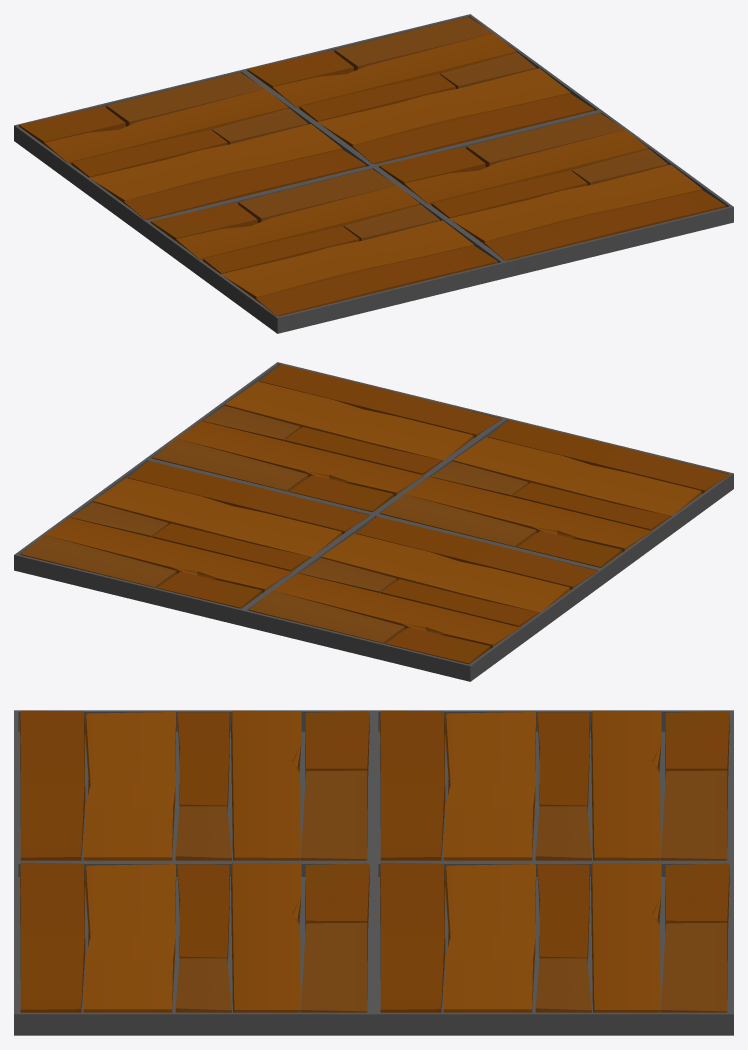
Rendered from Wood Planks Floor Modules 4x4M.glb.
The picture shows the model from 3 angles, top to bottom: view 1: azimuth 30°, elevation 25°; view 2: azimuth 150°, elevation 25°; view 3: azimuth 270°, elevation 25°; orthographic projection. The views are drawn at different scales.
Visible parts, largest first — view 1: FloorPlates_4x4; view 2: FloorPlates_4x4; view 3: FloorPlates_4x4.
Boxes of the visible parts, box(x1,y1,x2,y2) form: FloorPlates_4x4: box(14, 14, 733, 333); FloorPlates_4x4: box(14, 362, 733, 681); FloorPlates_4x4: box(14, 710, 733, 1035).
Size of what is drawn, in the model's own units: 4 by 0.1431 by 4.
1 material, 1 textured.
